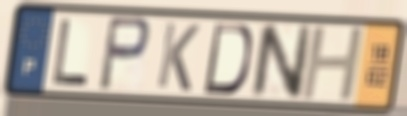D: (200, 20, 255, 97)
H: (298, 24, 368, 104)
K: (154, 20, 203, 95)
L: (50, 17, 91, 89)
N: (249, 22, 315, 101)
P: (95, 14, 153, 95)
